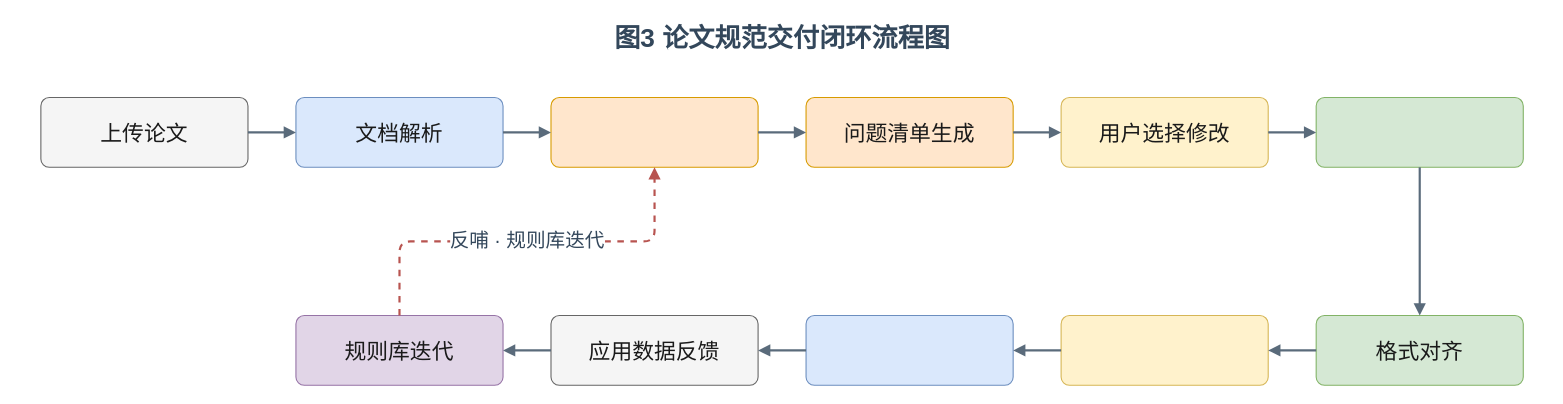
Some shapes in this 1563 by 404 pixel diagram are drawn without their labels. The shapes that lost their labels are listed below. From the top down, each one's centre as x and y in pixels, then its label:
[654,131]: 提交前体检
[1419,131]: 学术表达优化
[909,349]: 标准 Word 导出
[1164,349]: 人工确认
